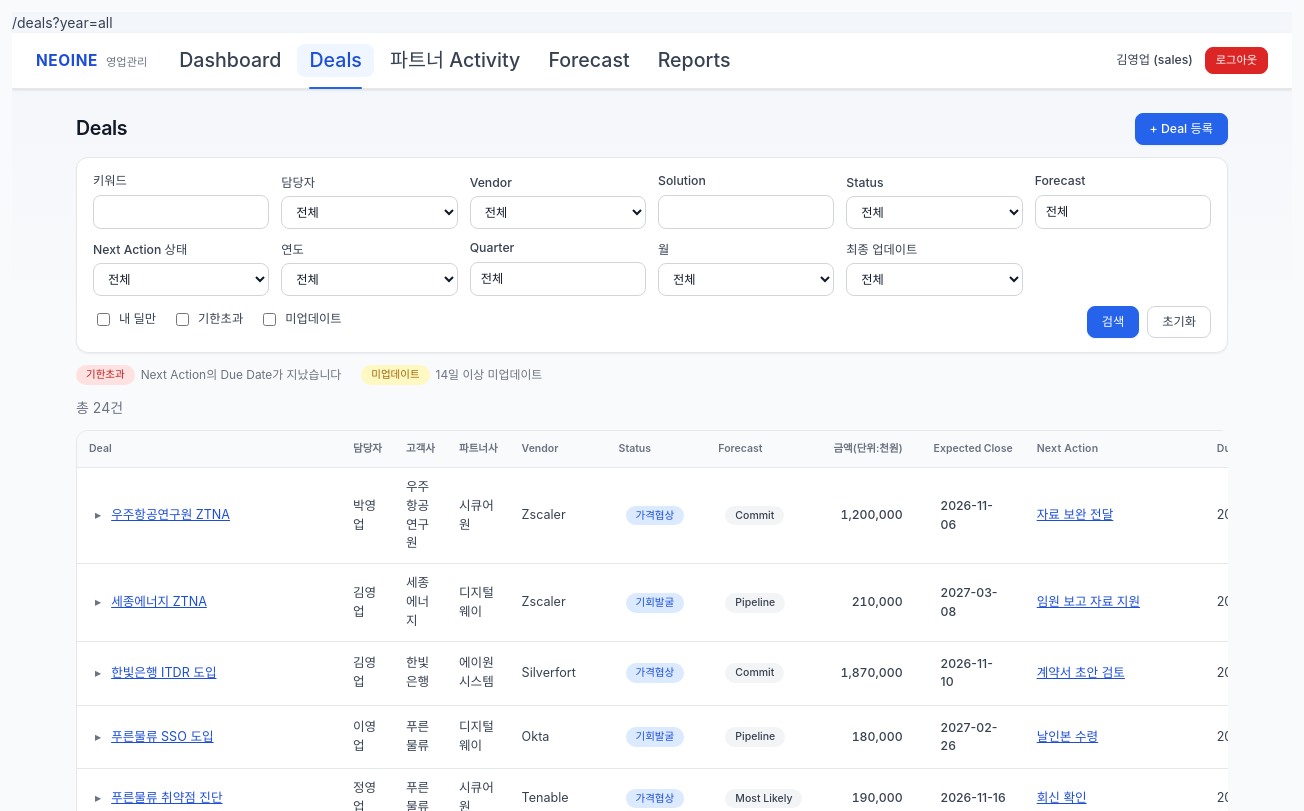
Test: selecting several forecasts (AC-07·08) › lists the deals of any checked forecast and puts the sorted keys in the URL
expect the row "한빛은행 ITDR 도입" is shown: met, box [77,642,1228,706]
expect the form named "Deal 필터" is shown: met, box [76,157,1228,353]
Click the button named "Forecast ": x=1123, y=212 [1035,195,1211,229]
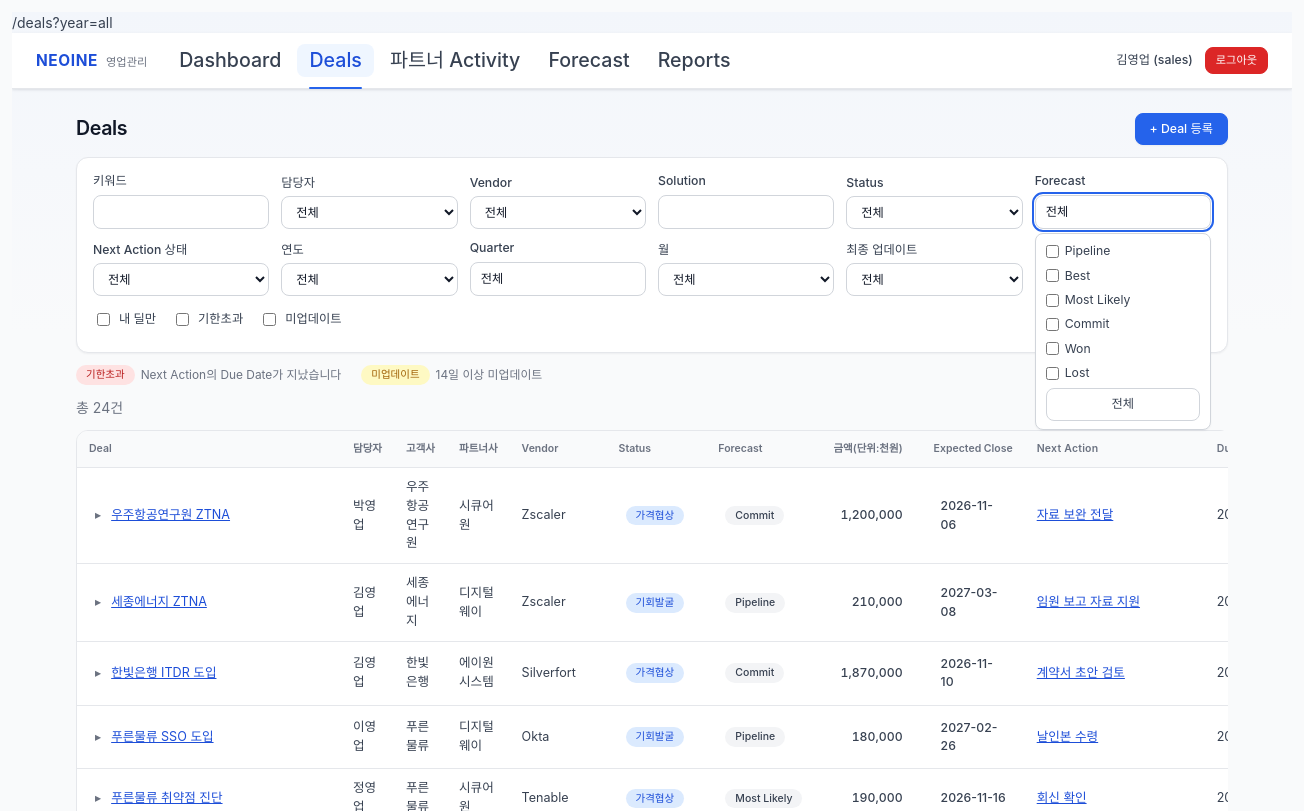
Click the checkbox labelled "Pipeline": x=1052, y=251 [1046,245,1059,258]
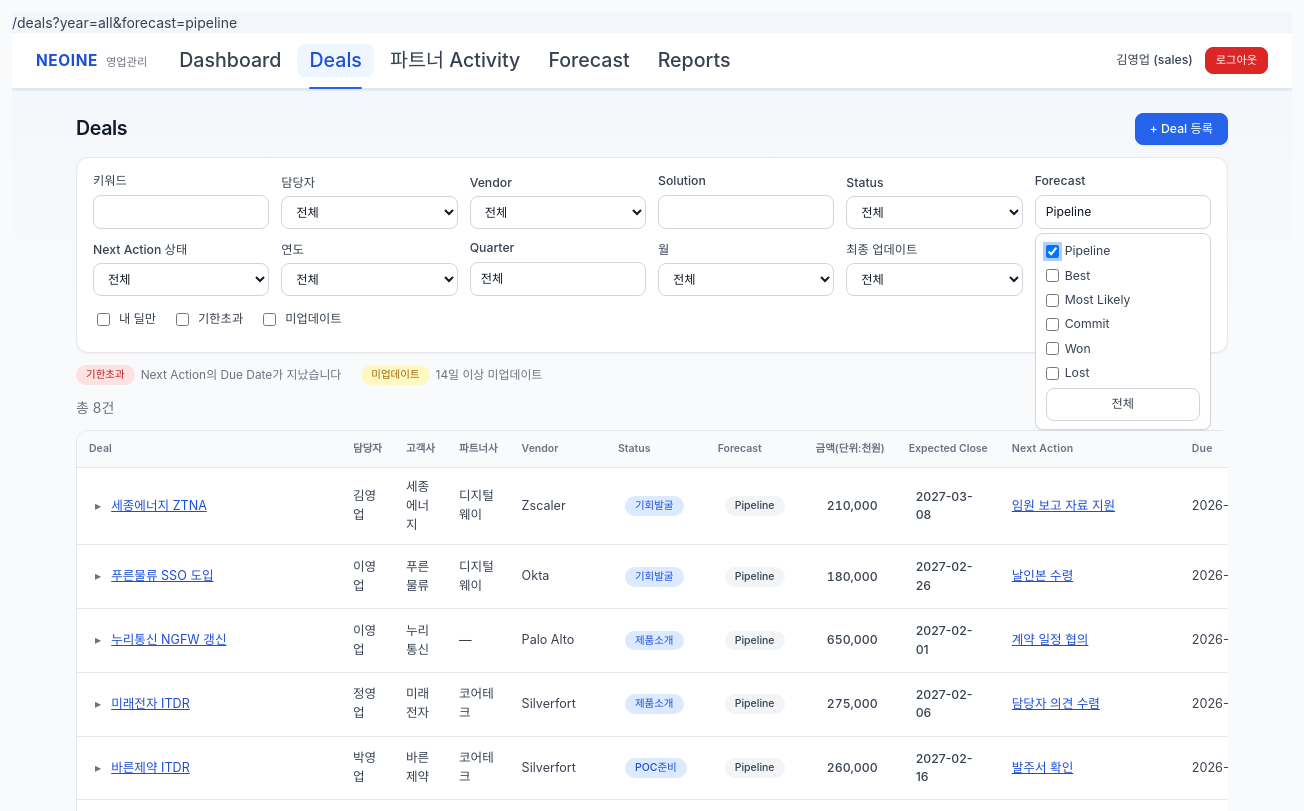
expect the form named "Deal 필터" is shown: met, box [76,157,1228,353]
Click the checkbox labelled "Best": x=1052, y=276 [1046,269,1059,282]
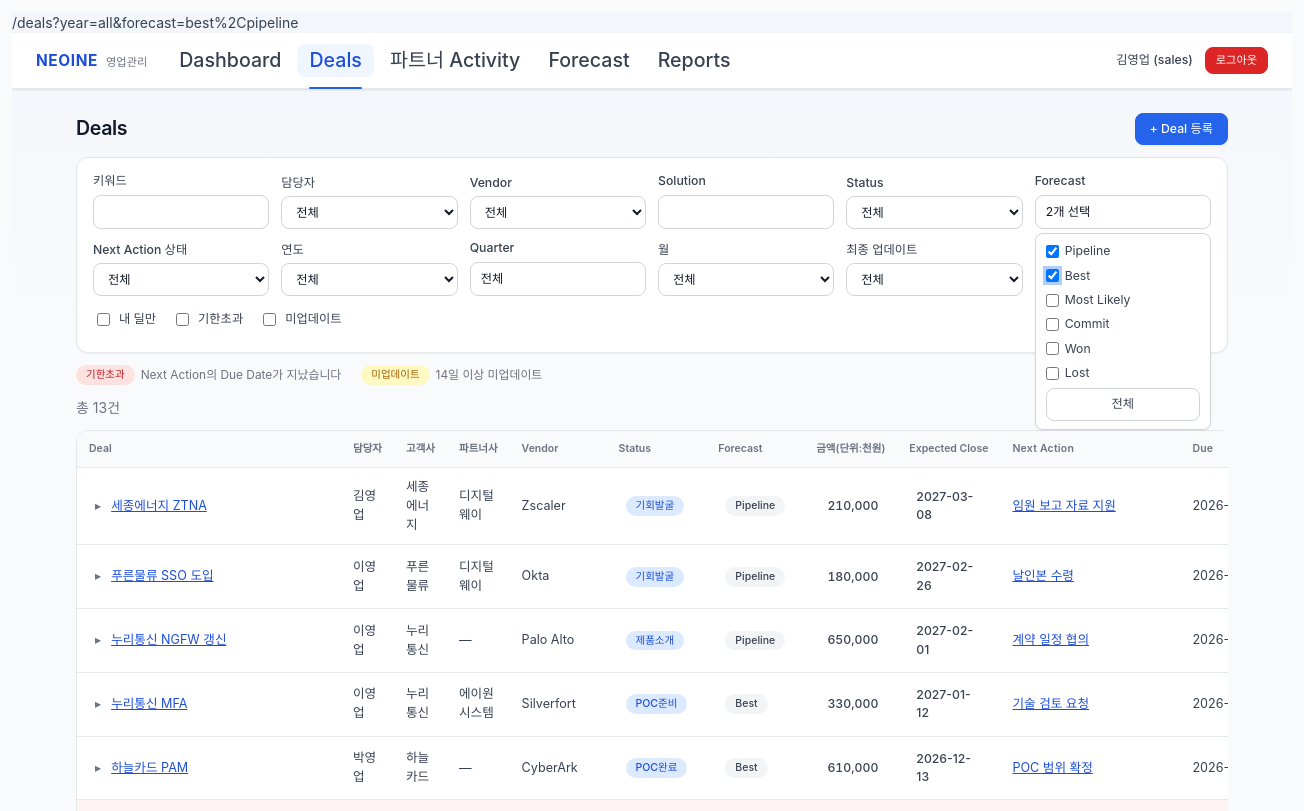
expect the label "Best" is shown: met, box [1046,268,1090,282]
expect the label "Pipeline" is shown: met, box [1046,243,1110,258]
expect the text with test id "location" reads "/deals?year=all&forecast=best%2Cpipeline": met, box [12,14,298,31]
